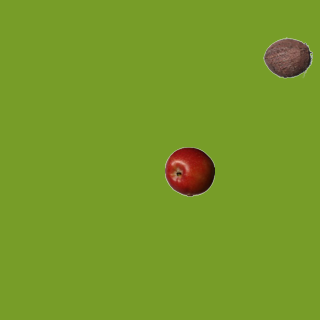Apple Braeburn: (164, 146, 214, 196)
Cocos: (262, 32, 312, 82)
